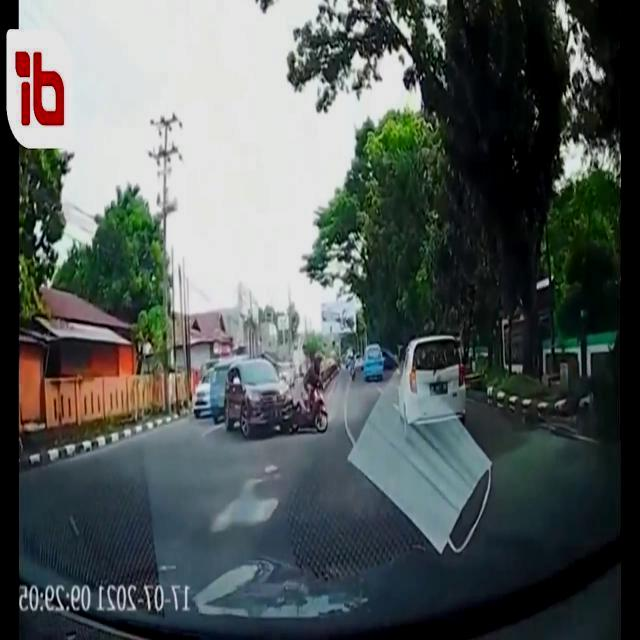accident: (224, 358, 328, 442)
non-accident: (348, 343, 384, 383)
